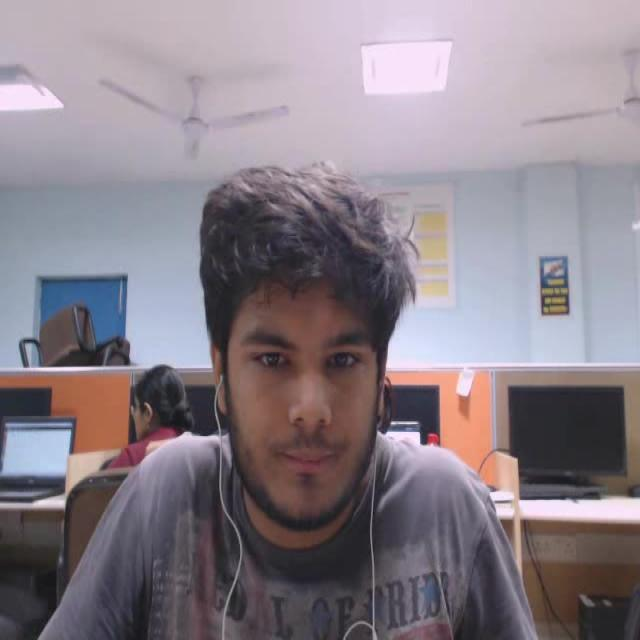Engaged: (166, 152, 437, 584)
